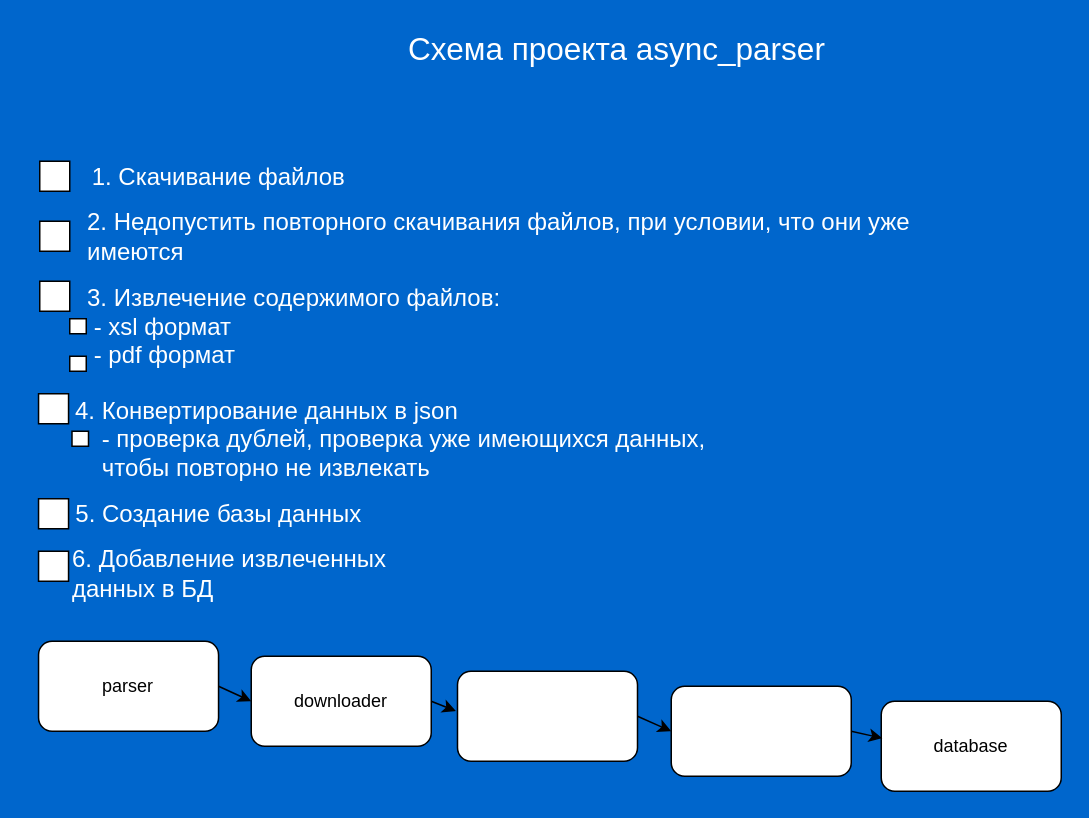
The diagram is 1089 pixels wide and 818 high, and some of its shapes have lost their labels. The shapes that lost their labels are listed below. From the top down, each one's centre as x and y in pixels, then its label:
At (x=547, y=715): "extractor".
At (x=760, y=730): "converter".
